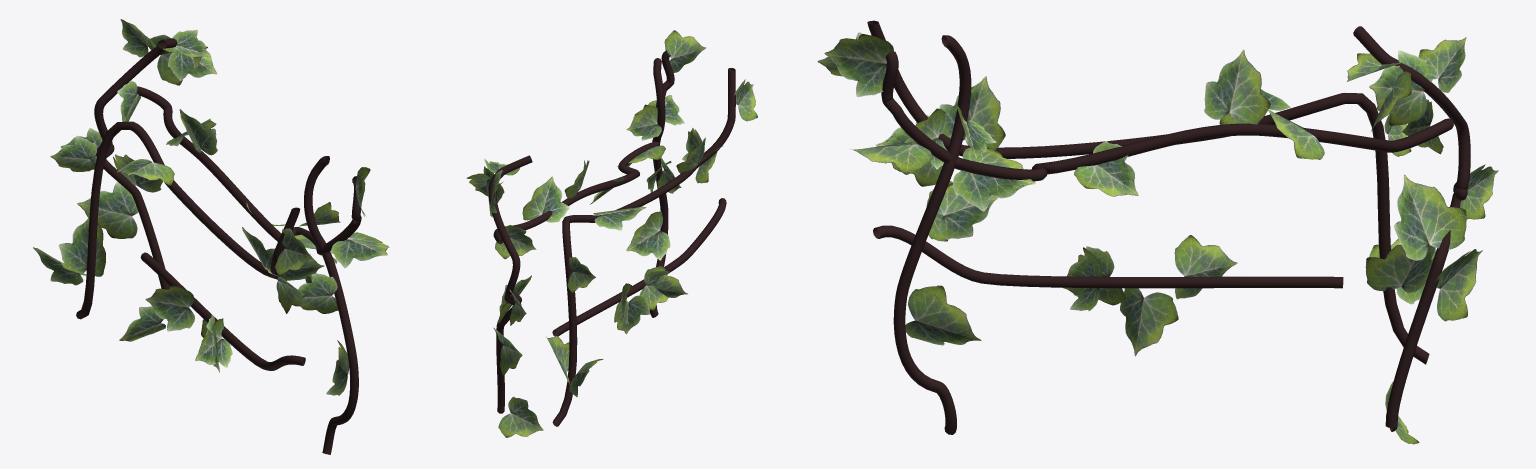
The model's file is bluszcz płotek 1.fbx.
3 views of the same model, side by side, from view 1: azimuth 30°, elevation 25°; view 2: azimuth 150°, elevation 25°; view 3: azimuth 270°, elevation 25° (orthographic). The views are drawn at different scales.
Visible parts, largest first — view 1: plotek bluszcz 1, plotek bluszcz 1 lodyga; view 2: plotek bluszcz 1, plotek bluszcz 1 lodyga; view 3: plotek bluszcz 1, plotek bluszcz 1 lodyga.
Boxes of the visible parts, x1=… form: plotek bluszcz 1: x1=33, y1=19, x2=389, y2=395; plotek bluszcz 1 lodyga: x1=76, y1=38, x2=361, y2=454; plotek bluszcz 1: x1=466, y1=30, x2=757, y2=437; plotek bluszcz 1 lodyga: x1=488, y1=50, x2=735, y2=426; plotek bluszcz 1: x1=817, y1=32, x2=1498, y2=444; plotek bluszcz 1 lodyga: x1=867, y1=20, x2=1470, y2=434.
Bounding box in the file's own units: 50.86 × 79.6 × 118.
